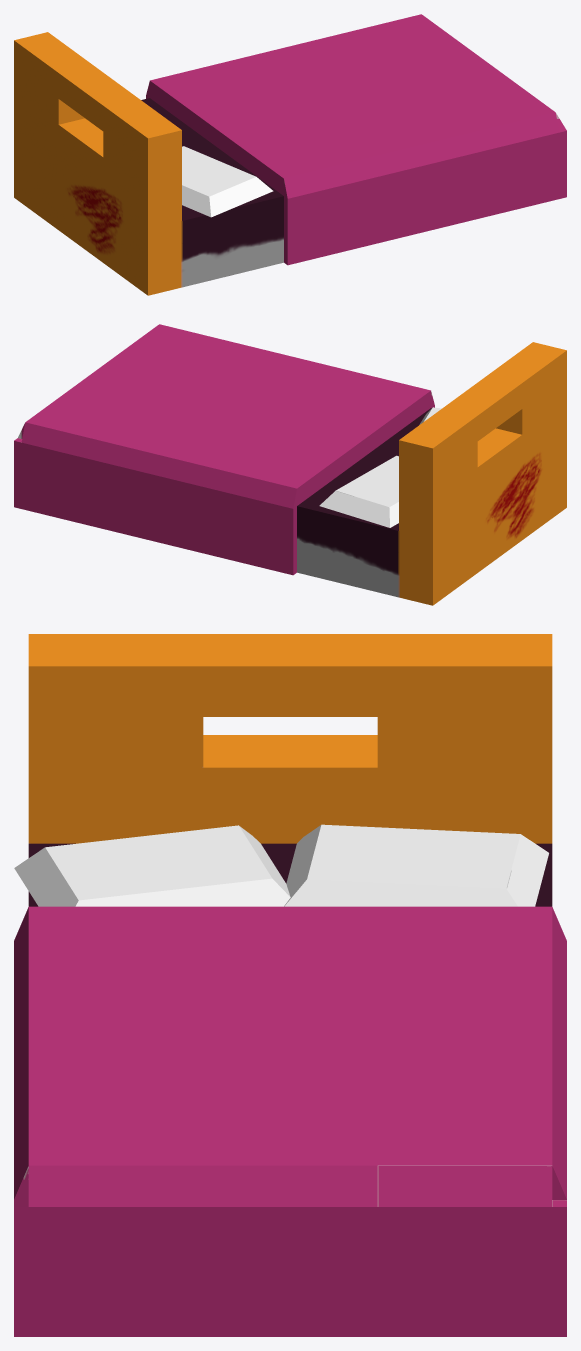
File: parentbed.fbx
3 views of the same model, one above another, from view 1: azimuth 30°, elevation 25°; view 2: azimuth 150°, elevation 25°; view 3: azimuth 270°, elevation 25° (orthographic). The views are drawn at different scales.
Visible parts, largest first — view 1: Cube; view 2: Cube; view 3: Cube.
Boxes of the visible parts, x1=… form: Cube: x1=14, y1=14, x2=566, y2=295; Cube: x1=14, y1=324, x2=566, y2=605; Cube: x1=14, y1=634, x2=566, y2=1336.
Bounding box in the file's own units: 1307 × 473 × 772.
